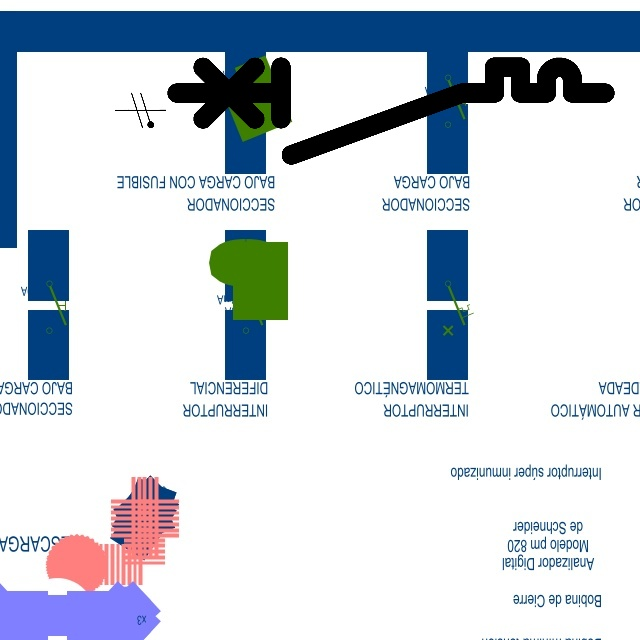interruptor_termomagnetico: (165, 56, 615, 166)
